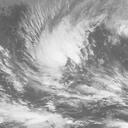cyclone: (35, 36, 106, 102)
